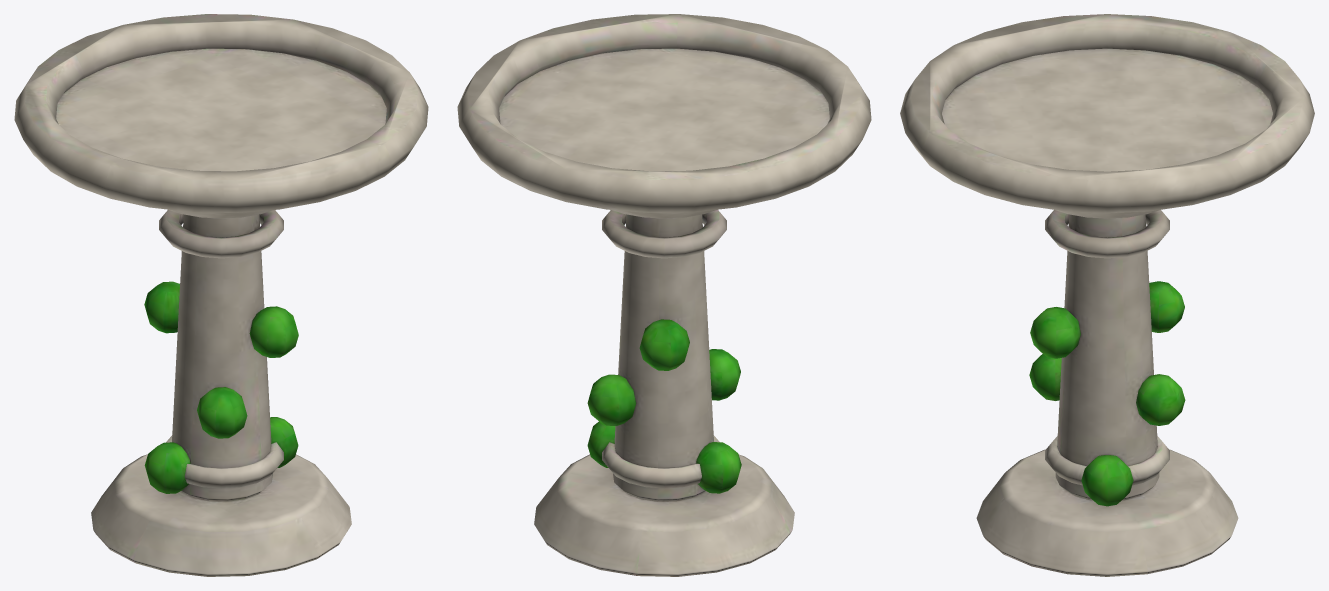
Rendered from birdbath.glb.
3 renders of one model, left to right at view 1: azimuth 30°, elevation 25°; view 2: azimuth 150°, elevation 25°; view 3: azimuth 270°, elevation 25°, orthographic.
Parts seen in each view (by area): view 1: birdbath; view 2: birdbath; view 3: birdbath.
Part boxes in pixels (x1,y1,x2,y2): birdbath: (14, 14, 428, 576); birdbath: (457, 14, 871, 576); birdbath: (900, 14, 1314, 576).
Bounding box in the file's own units: 0.556 × 0.6292 × 0.556.
1 material, 1 textured.
